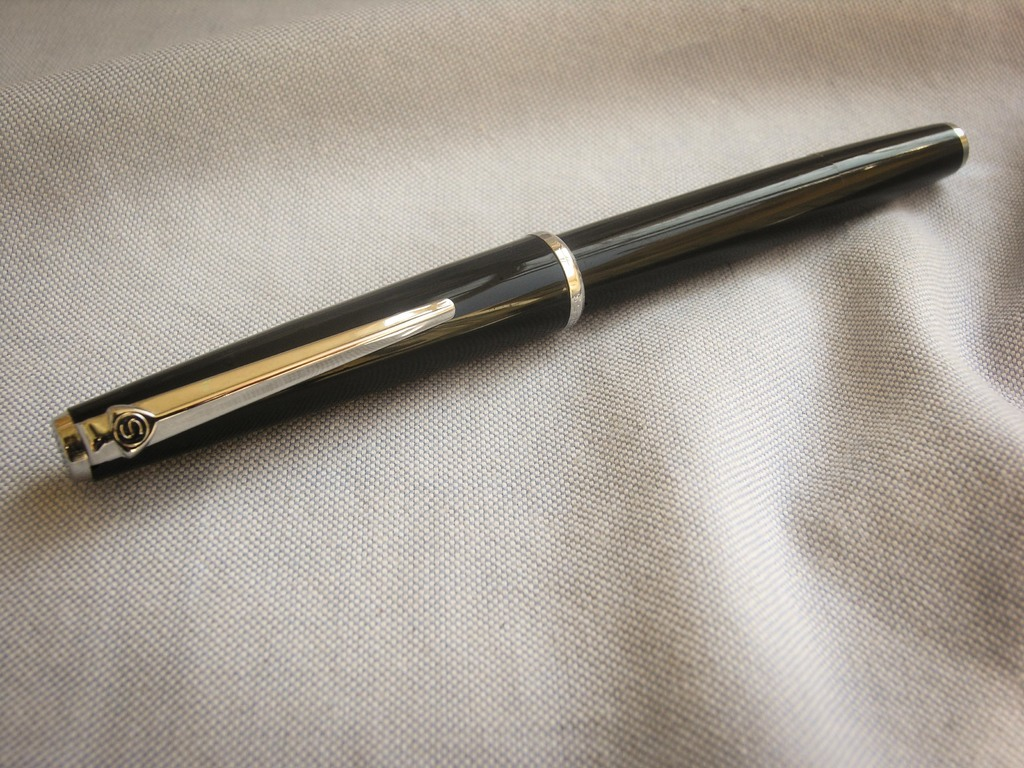Pen: (51, 118, 970, 485)
